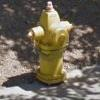Hydrant: (21, 2, 74, 88)
